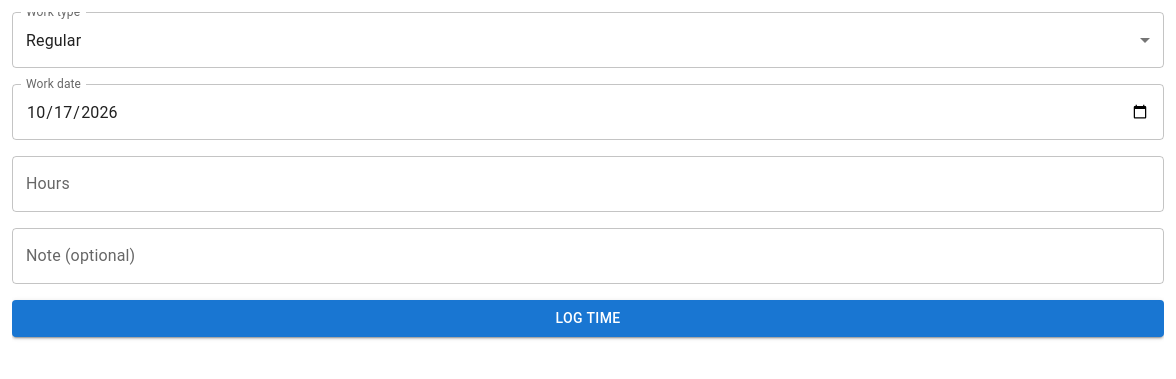
Test: TimeLogForm › shows API field errors next to the field
This screenshot has width=1176, height=379.
Type "2" into the field labelled "Hours" at coordinates (588, 184), box [12,156,1164,212]
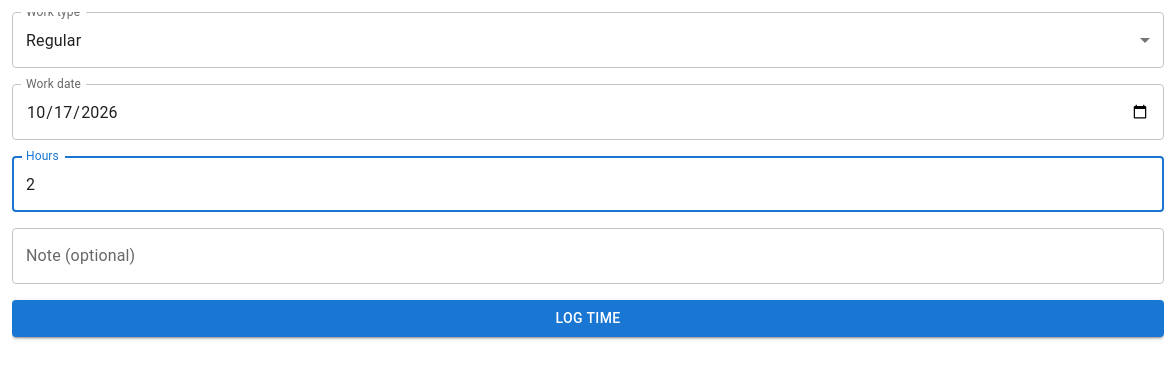
Click the button "Log time" at coordinates (588, 318), box [12,300,1164,336]
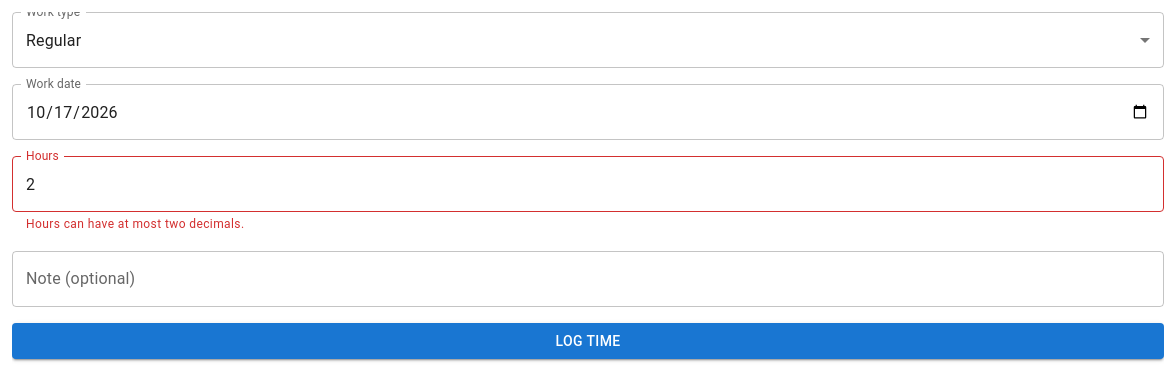
Expected: the text "Hours can have at most two decimals." is shown, [26,217,244,231]
